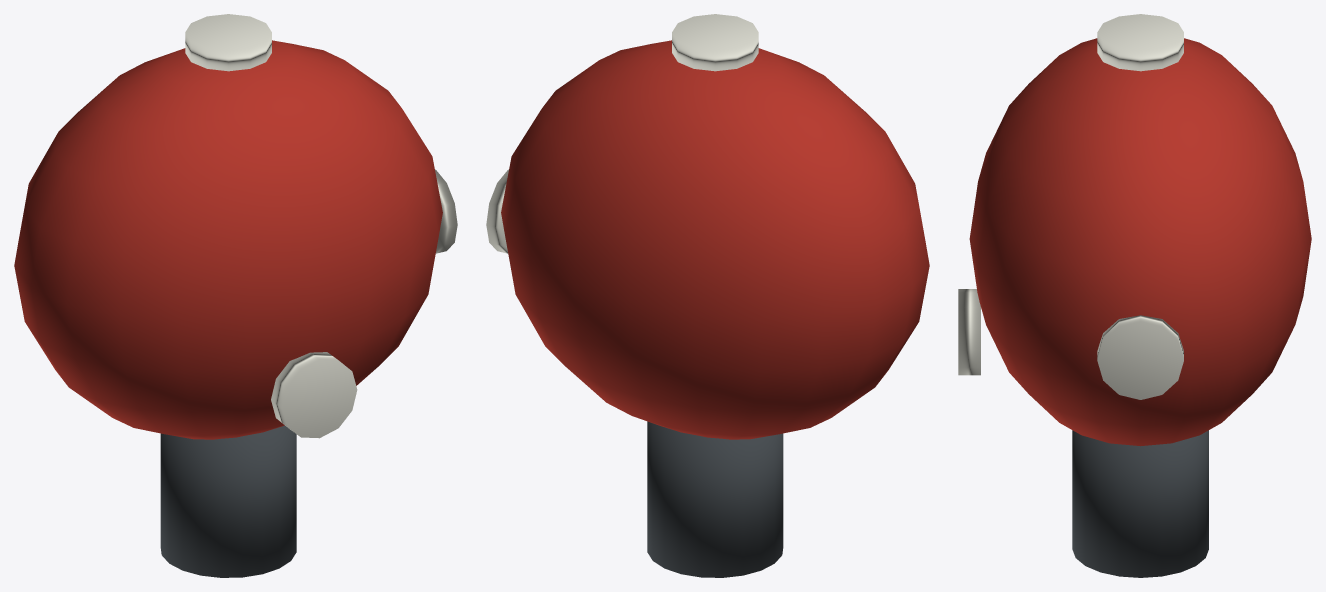
The model's file is VLAB_pipette_bulb.fbx.
3 renders of one model, left to right at view 1: azimuth 30°, elevation 25°; view 2: azimuth 150°, elevation 25°; view 3: azimuth 270°, elevation 25°, orthographic.
Parts seen in each view (by area): view 1: VLAB_pipette_bulb_Bulb_VIS, VLAB_pipette_bulb_Connector_VIS, VLAB_pipette_bulb_Controls_VIS; view 2: VLAB_pipette_bulb_Bulb_VIS, VLAB_pipette_bulb_Connector_VIS, VLAB_pipette_bulb_Controls_VIS; view 3: VLAB_pipette_bulb_Bulb_VIS, VLAB_pipette_bulb_Connector_VIS, VLAB_pipette_bulb_Controls_VIS.
Part boxes in pixels (<box>): VLAB_pipette_bulb_Bulb_VIS: <box>14,40,442,439</box>; VLAB_pipette_bulb_Connector_VIS: <box>160,425,296,577</box>; VLAB_pipette_bulb_Controls_VIS: <box>185,14,457,438</box>; VLAB_pipette_bulb_Bulb_VIS: <box>501,40,929,439</box>; VLAB_pipette_bulb_Connector_VIS: <box>647,421,783,577</box>; VLAB_pipette_bulb_Controls_VIS: <box>486,14,758,253</box>; VLAB_pipette_bulb_Bulb_VIS: <box>969,38,1311,446</box>; VLAB_pipette_bulb_Connector_VIS: <box>1072,430,1208,577</box>; VLAB_pipette_bulb_Controls_VIS: <box>958,14,1183,399</box>.
Bounding box in the file's own units: 0.041 × 0.05 × 0.031.
